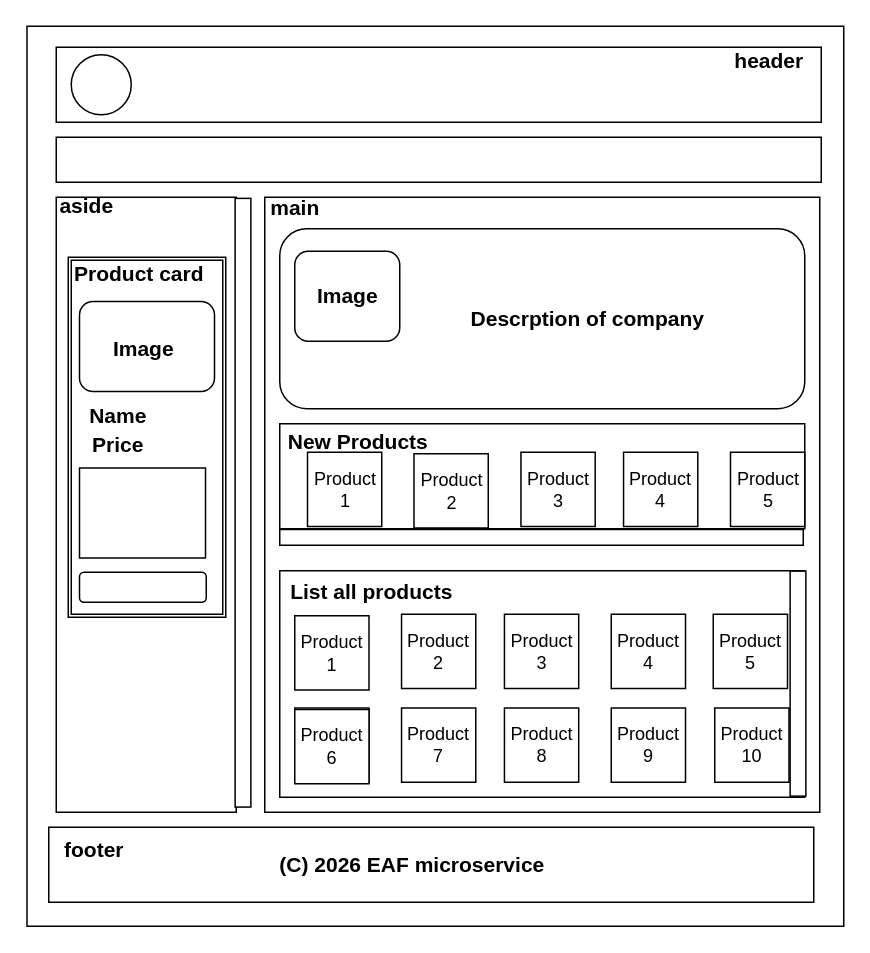
This 870x953 diagram has some shape labels left out. Here are the shapes that lost their labels. From the top down, the centre of each, then its label:
[100,84]: logo
[438,159]: nav bar
[142,512]: Description
[142,586]: btn command
